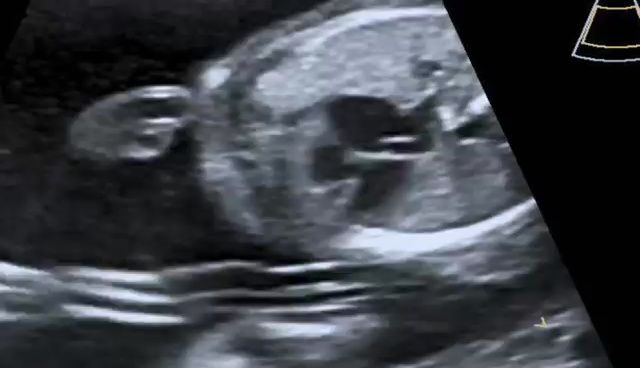AO: (299, 93, 423, 210)
LO: (193, 58, 239, 96)
VA: (58, 82, 199, 164)
